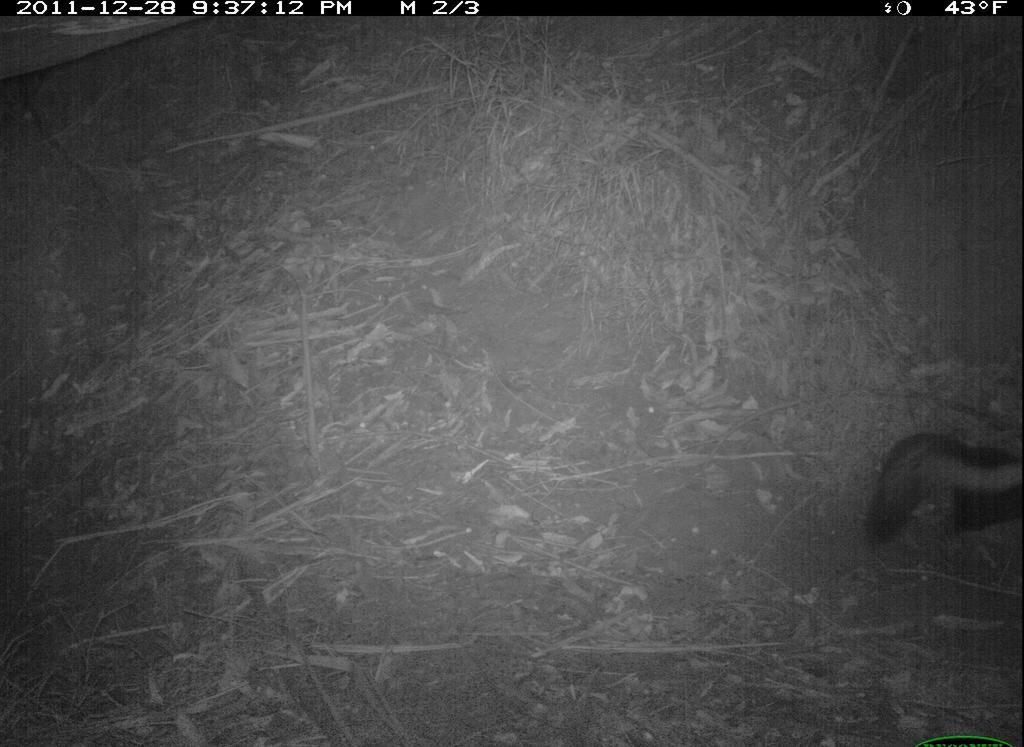skunk: (856, 425, 1021, 564)
